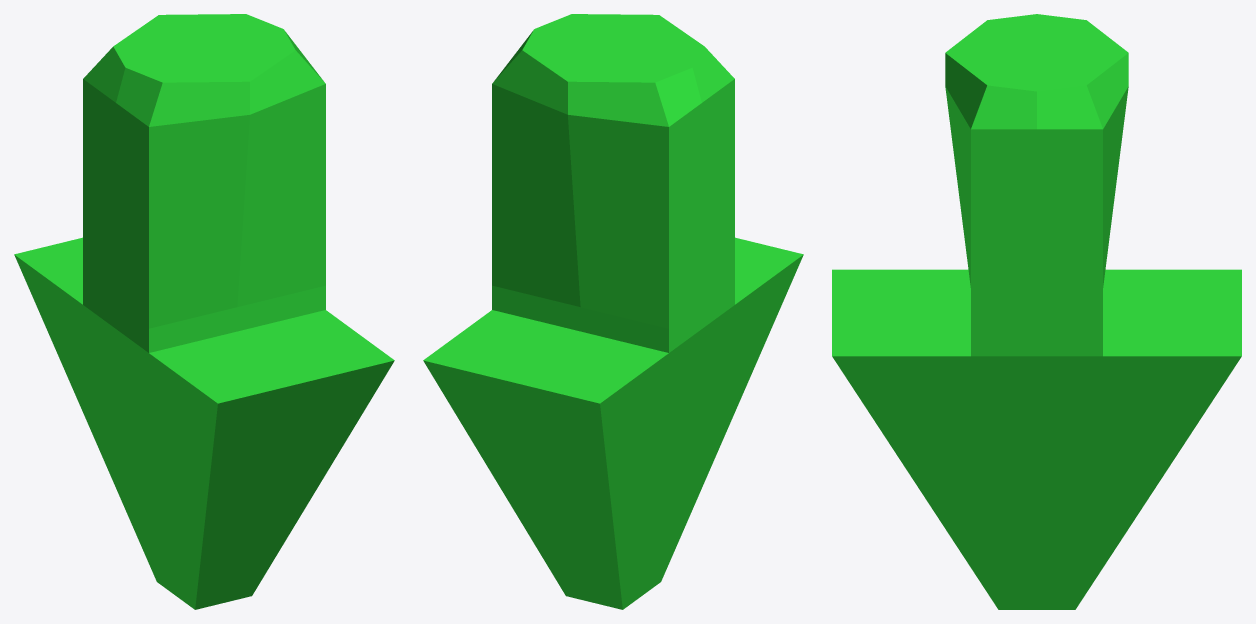
The model's file is arrow.glb.
3 renders of one model, left to right at view 1: azimuth 30°, elevation 25°; view 2: azimuth 150°, elevation 25°; view 3: azimuth 270°, elevation 25°, orthographic.
Visible parts, largest first — view 1: Plane; view 2: Plane; view 3: Plane.
Part boxes in pixels (left/top/right/bottom): Plane: left=14, top=14, right=394, bottom=609; Plane: left=423, top=14, right=803, bottom=609; Plane: left=832, top=14, right=1241, bottom=609.
Bounding box in the file's own units: 0.2008 × 0.5864 × 0.4008.
